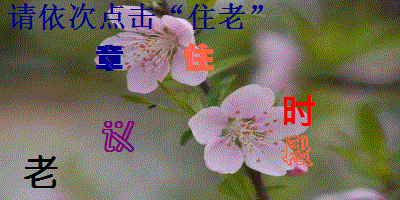result: (187, 1, 247, 32)
text: (99, 118, 137, 157), (280, 93, 319, 130), (23, 154, 61, 190), (280, 133, 315, 170), (182, 41, 216, 73), (92, 43, 128, 73)
